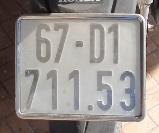1: (43, 65, 60, 114), (66, 66, 82, 113), (107, 22, 122, 67)
3: (119, 68, 139, 114)
5: (91, 65, 116, 114)
6: (33, 22, 53, 64)
7: (52, 18, 72, 65), (23, 67, 42, 110)
D: (86, 19, 107, 65)
